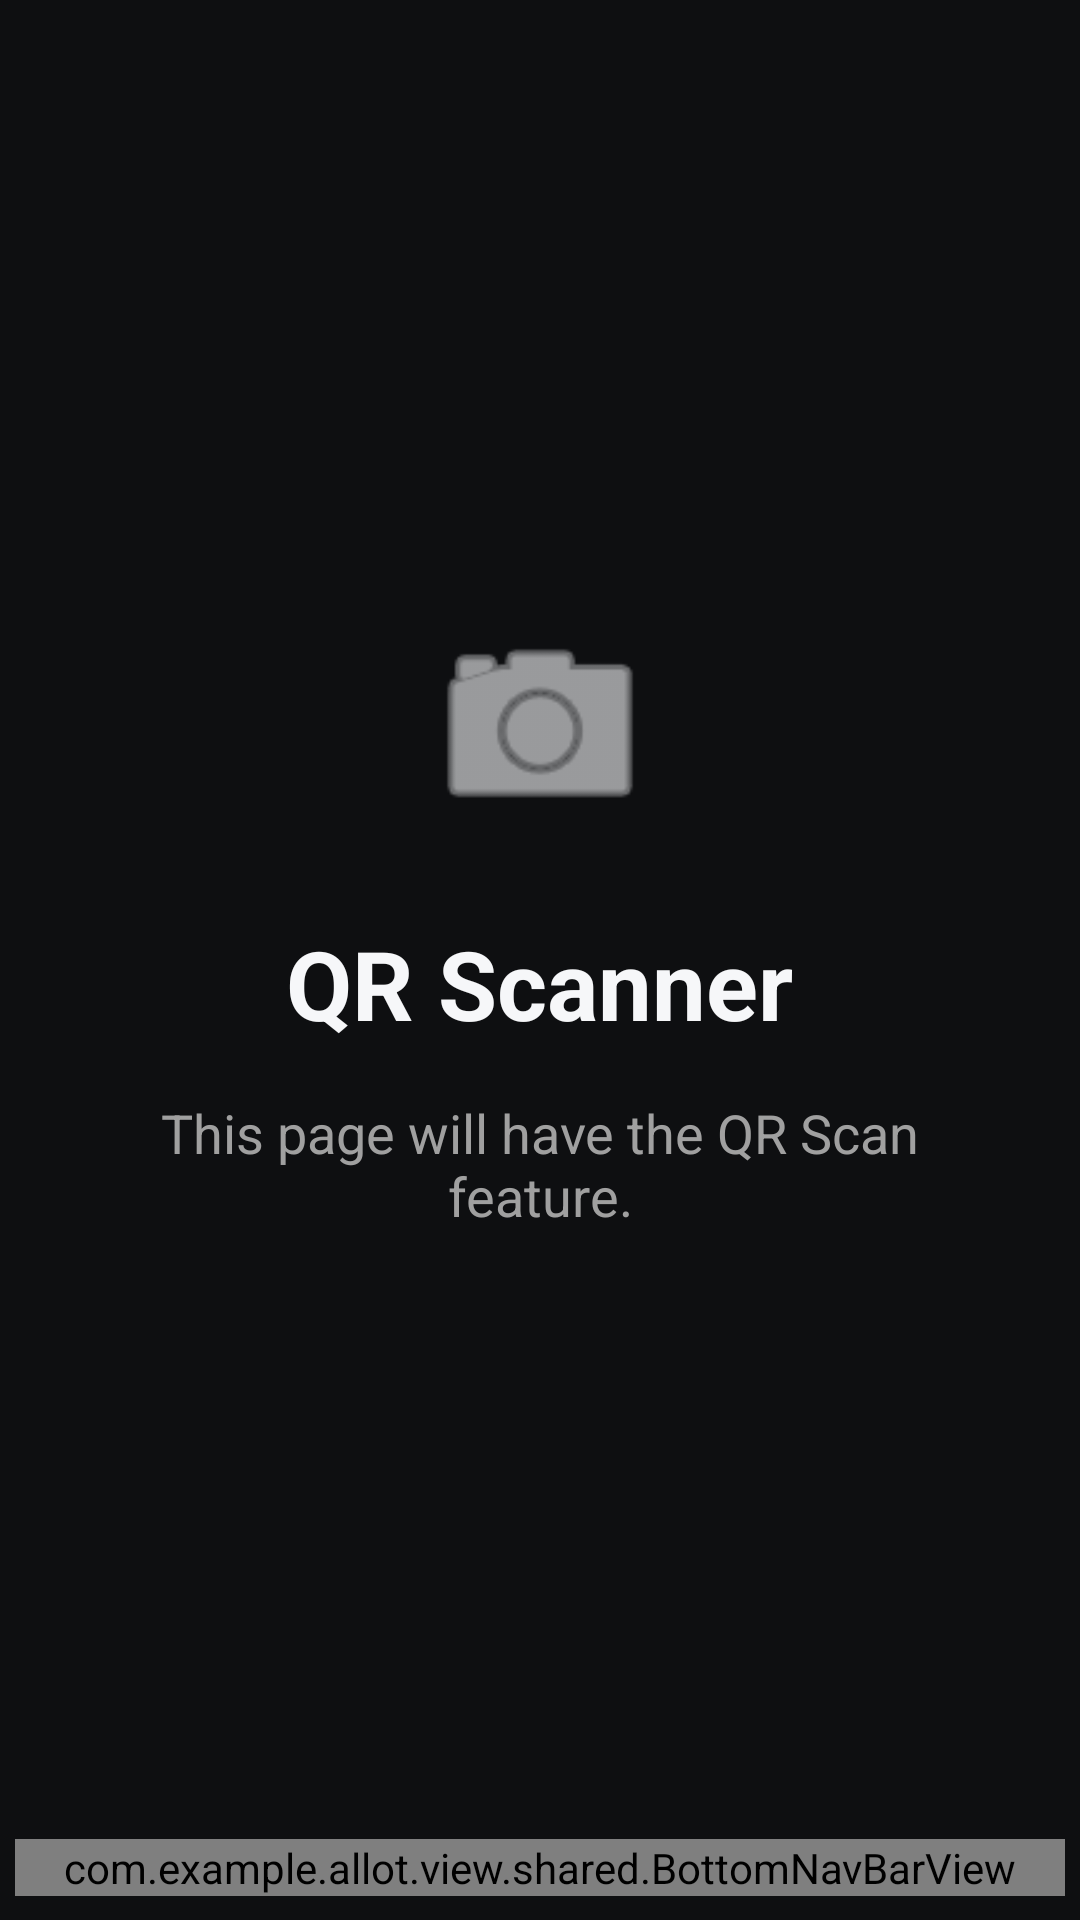

Point at icon controls on the screen. Image size 1080 × 1920, points as point (x, y).
camera: point (540, 723)
